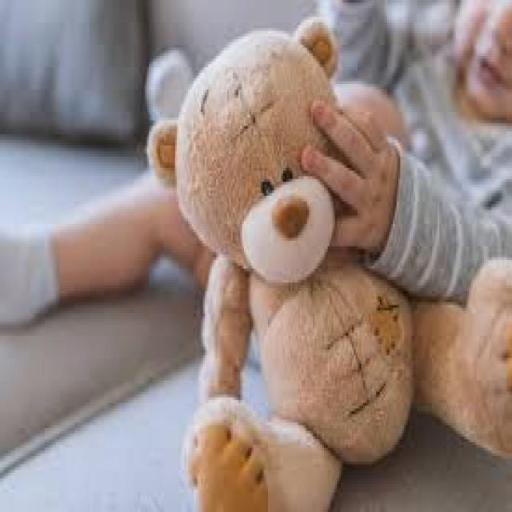baby: (303, 0, 511, 300)
